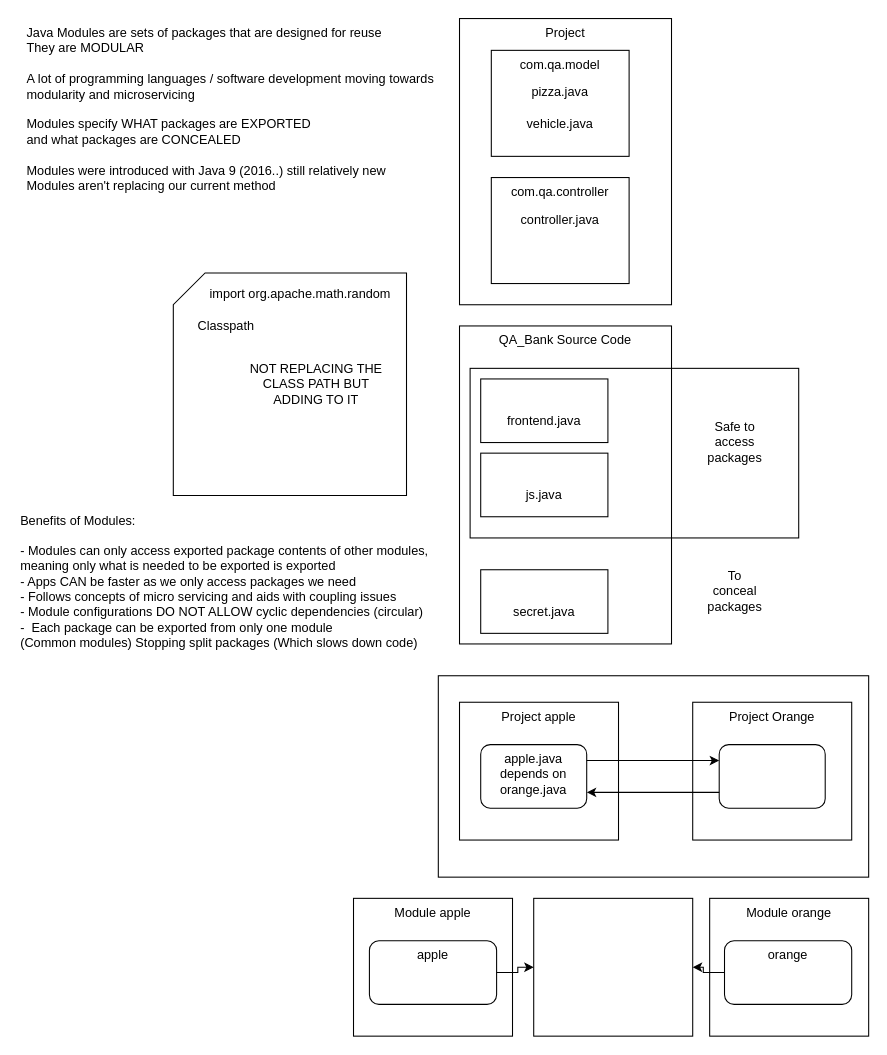
This 887x1055 diagram has some shape labels left out. Each missing label, with the box of its shape:
com.qa.bankDetails: (480, 569, 608, 633)
com.qa.webapp: (480, 452, 608, 517)
com.qa.website: (480, 378, 608, 443)
Module Common: (533, 897, 693, 1036)
One big Project (Cyclic Dependency): (437, 675, 869, 877)
orange.java depends on apple.java: (718, 744, 825, 808)
